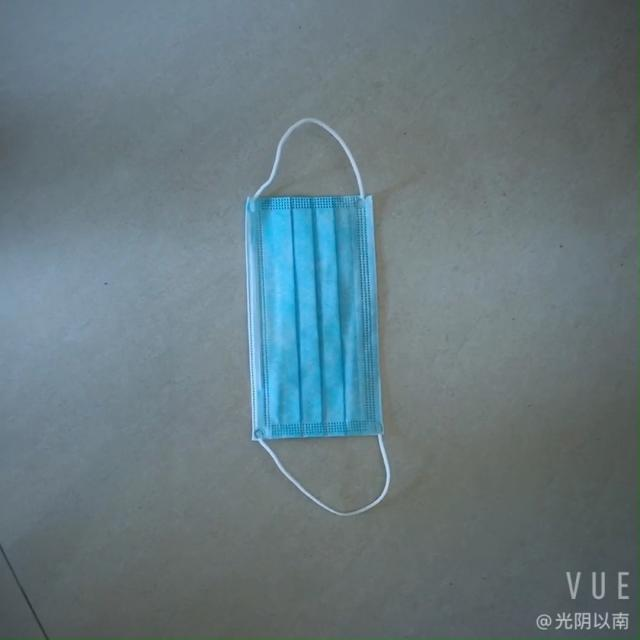face mask: (230, 166, 403, 456)
